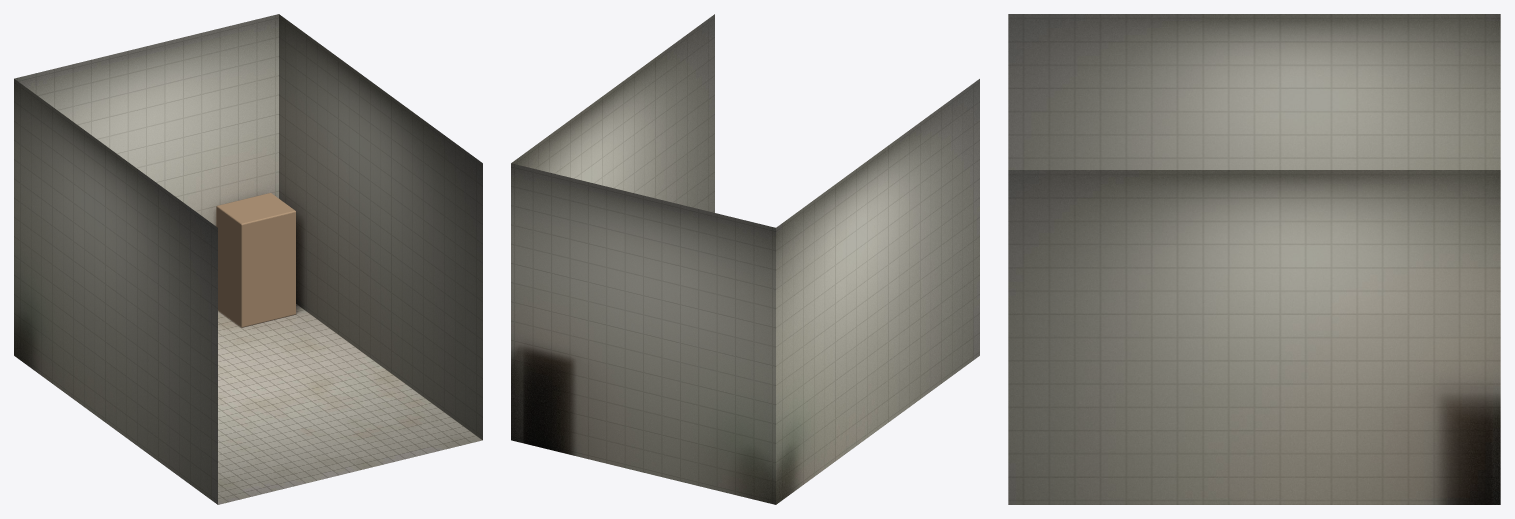
The model's file is room.glb.
3 views of the same model, side by side, from view 1: azimuth 30°, elevation 25°; view 2: azimuth 150°, elevation 25°; view 3: azimuth 270°, elevation 25° (orthographic). The views are drawn at different scales.
Parts seen in each view (by area): view 1: WallLeft, WallRight, WallBack, Floor, Cabinet; view 2: WallBack, WallLeft, WallRight; view 3: WallRight, WallLeft.
Part boxes in pixels (x1,y1,x2,y2): WallLeft: (14,79,217,504); WallRight: (279,14,482,439); WallBack: (14,14,278,225); Floor: (218,304,482,504); Cabinet: (216,193,295,327); WallBack: (511,163,775,504); WallLeft: (776,79,979,504); WallRight: (511,14,714,212); WallRight: (1008,170,1500,504); WallLeft: (1008,14,1500,169).
Size of the model in its own units: 2.4 by 2.4 by 3.2.
7 materials, 4 textured.
